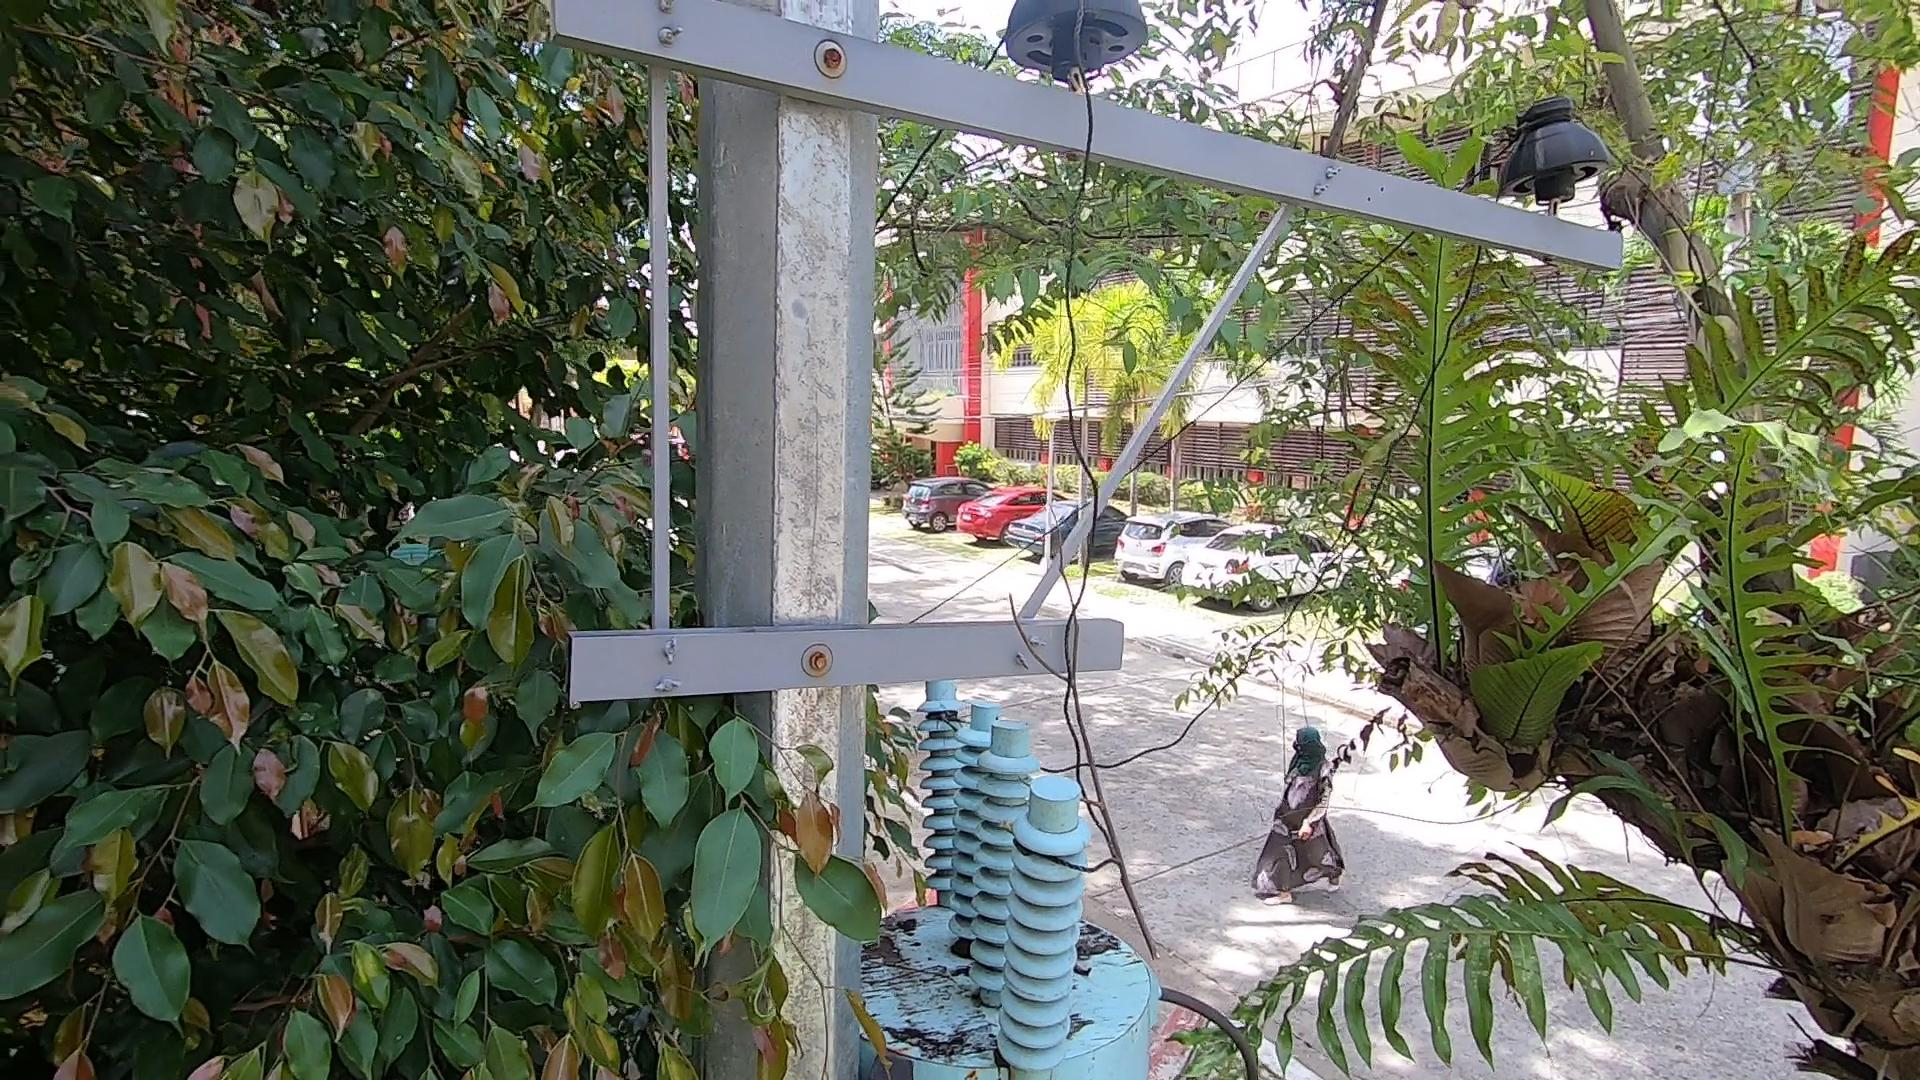tree branch: (1000, 491, 1208, 969)
